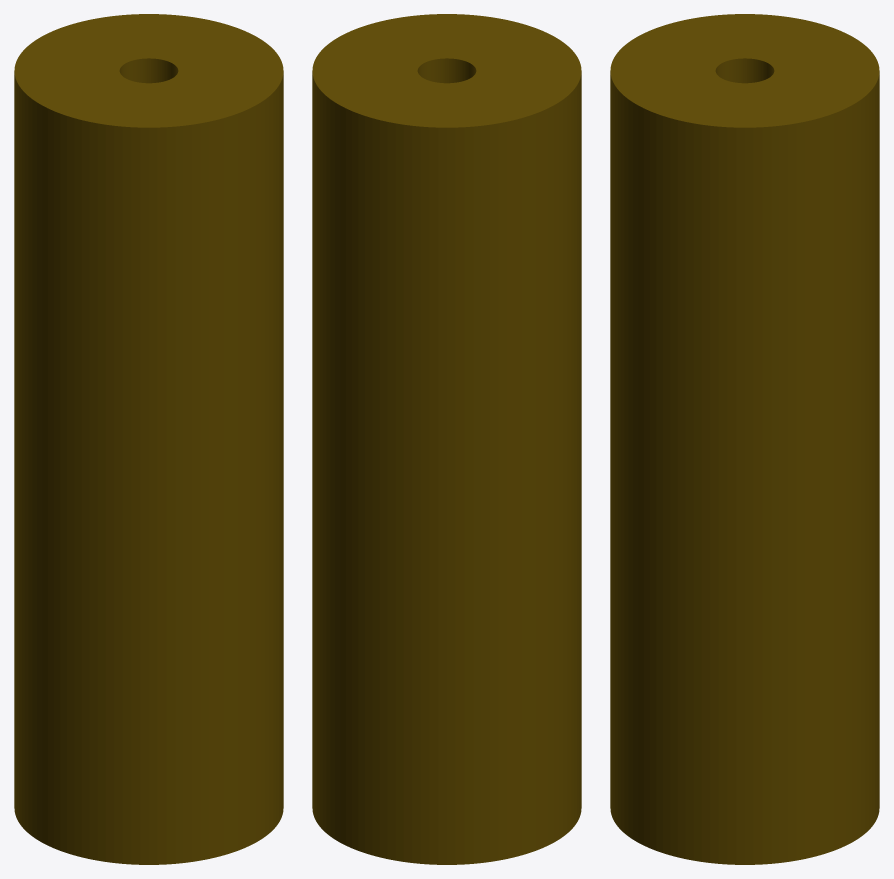
The model's file is ridservices.fbx.
The picture shows the model from 3 angles, left to right: view 1: azimuth 30°, elevation 25°; view 2: azimuth 150°, elevation 25°; view 3: azimuth 270°, elevation 25°; orthographic projection.
Visible parts, largest first — view 1: /tmp/importOpenSceneGraph531d3/RIDservices.wrl__Geometry_0; view 2: /tmp/importOpenSceneGraph531d3/RIDservices.wrl__Geometry_0; view 3: /tmp/importOpenSceneGraph531d3/RIDservices.wrl__Geometry_0.
Part boxes in pixels (box(x1,y1,x2,y2)): /tmp/importOpenSceneGraph531d3/RIDservices.wrl__Geometry_0: box(14, 14, 283, 864); /tmp/importOpenSceneGraph531d3/RIDservices.wrl__Geometry_0: box(312, 14, 581, 864); /tmp/importOpenSceneGraph531d3/RIDservices.wrl__Geometry_0: box(610, 14, 879, 864).
Size of the model in its own units: 2296 by 6940 by 2296.
